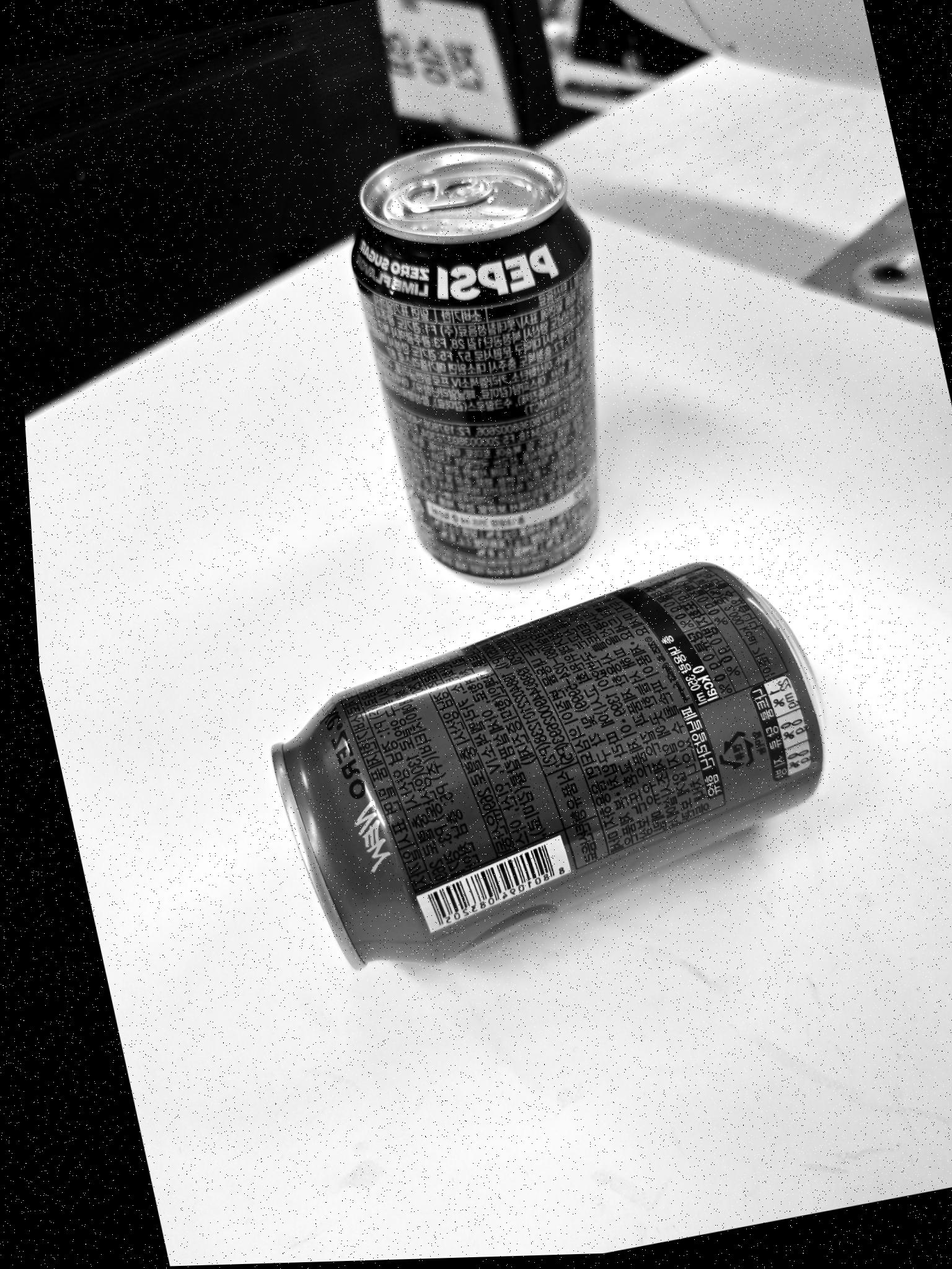can_coke_zero: (276, 554, 836, 972)
can_pepsi_zero: (350, 147, 608, 577)
